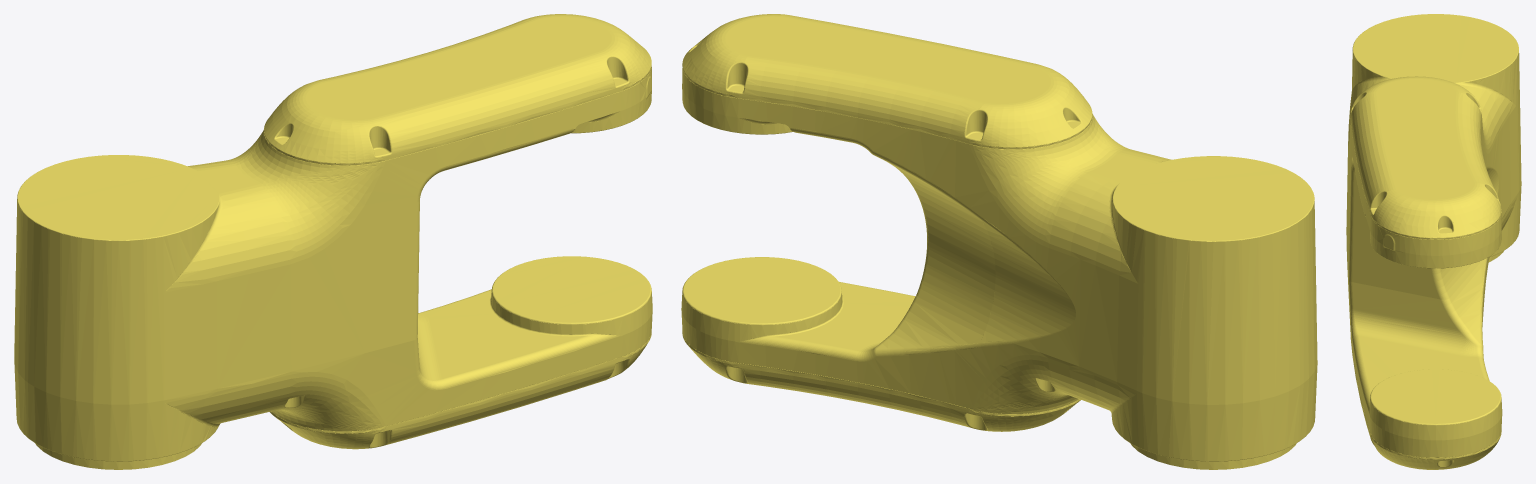
File: FanucLRMate200iCLink2.dae
3 renders of one model, left to right at view 1: azimuth 30°, elevation 25°; view 2: azimuth 150°, elevation 25°; view 3: azimuth 270°, elevation 25°, orthographic. The views are drawn at different scales.
Parts seen in each view (by area): view 1: Fanuc200iDLink2; view 2: Fanuc200iDLink2; view 3: Fanuc200iDLink2.
Boxes of the visible parts, x1,y1,x2,y2 form: Fanuc200iDLink2: (14,14,652,469); Fanuc200iDLink2: (681,14,1317,469); Fanuc200iDLink2: (1346,14,1521,469).
Size of the model in its own units: 0.4471 by 0.1346 by 0.227.
